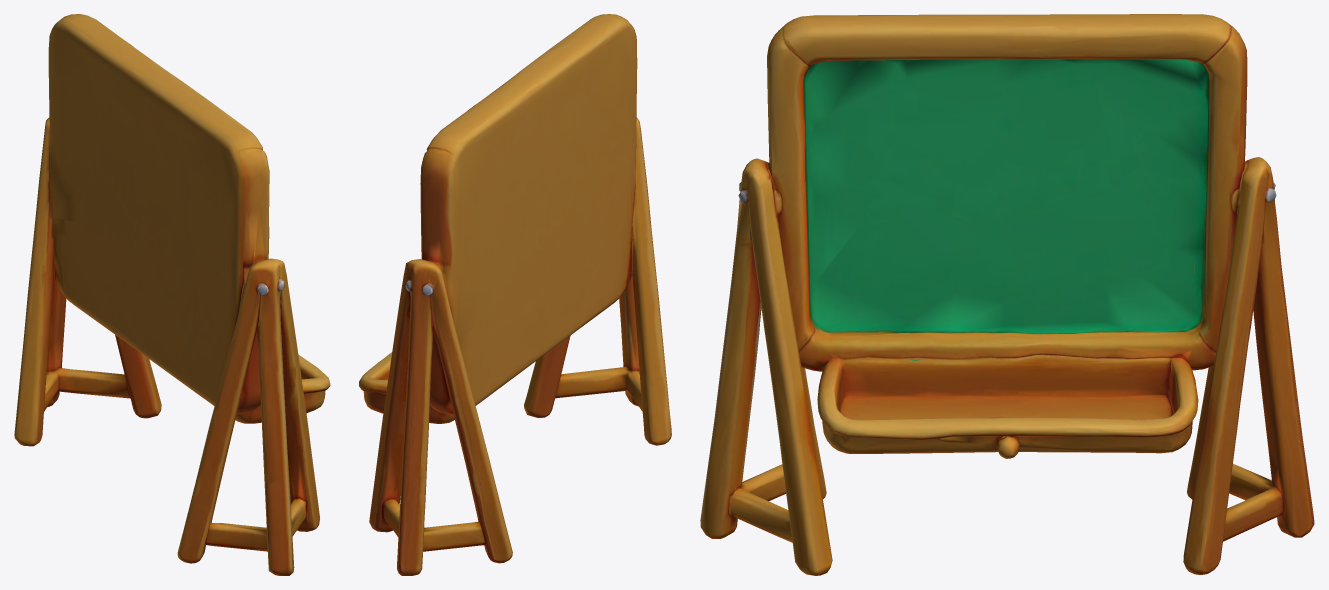
File: blackboard.glb
The picture shows the model from 3 angles, left to right: view 1: azimuth 30°, elevation 25°; view 2: azimuth 150°, elevation 25°; view 3: azimuth 270°, elevation 25°; orthographic projection. The views are drawn at different scales.
Parts seen in each view (by area): view 1: tripo_node_68e1ba16-49a1-40e8-a516-c79a8bc07b00; view 2: tripo_node_68e1ba16-49a1-40e8-a516-c79a8bc07b00; view 3: tripo_node_68e1ba16-49a1-40e8-a516-c79a8bc07b00.
Boxes of the visible parts, x1=… form: tripo_node_68e1ba16-49a1-40e8-a516-c79a8bc07b00: x1=14, y1=14, x2=330, y2=575; tripo_node_68e1ba16-49a1-40e8-a516-c79a8bc07b00: x1=359, y1=14, x2=671, y2=575; tripo_node_68e1ba16-49a1-40e8-a516-c79a8bc07b00: x1=700, y1=14, x2=1314, y2=575.
Size of the model in its own units: 0.4514 by 1 by 1.08.
1 material, 1 textured.
